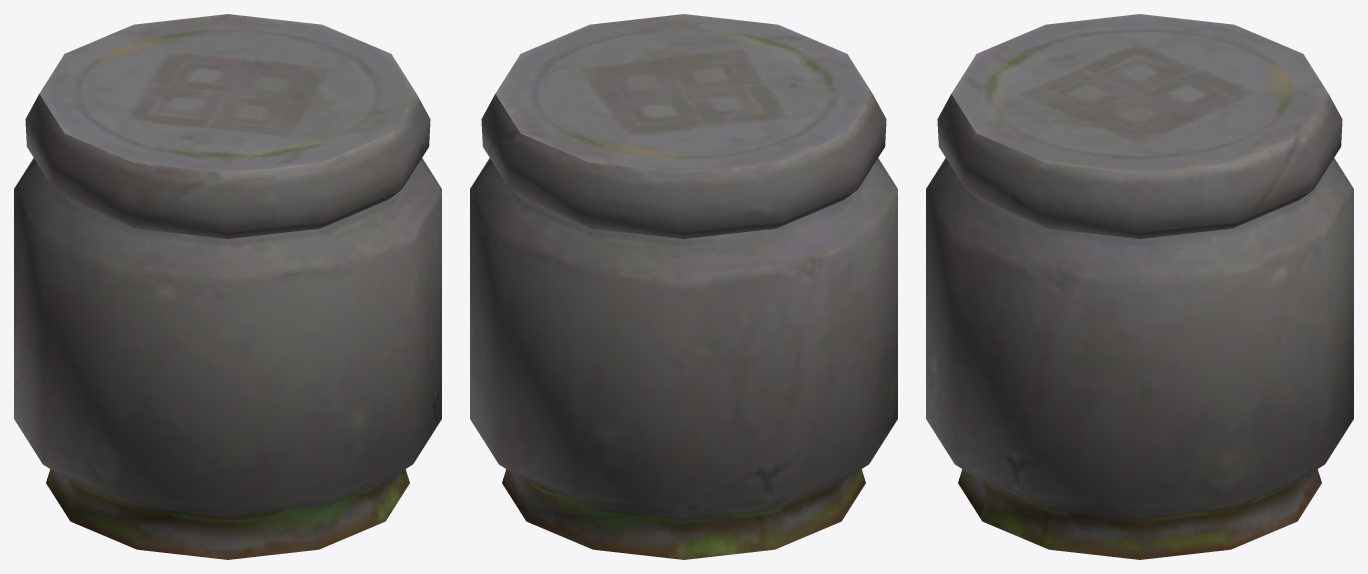
Rendered from Homeworld_Exterior_Cyg_Chair_Prop_Shizhi_01_Vo.fbx.
3 views of the same model, side by side, from view 1: azimuth 30°, elevation 25°; view 2: azimuth 150°, elevation 25°; view 3: azimuth 270°, elevation 25° (orthographic).
Visible parts, largest first — view 1: Area_Cyg_Prop_Common_Chair_01_Vo; view 2: Area_Cyg_Prop_Common_Chair_01_Vo; view 3: Area_Cyg_Prop_Common_Chair_01_Vo.
Part boxes in pixels (box(x1,y1,x2,y2)): Area_Cyg_Prop_Common_Chair_01_Vo: box(14, 14, 441, 559); Area_Cyg_Prop_Common_Chair_01_Vo: box(470, 14, 897, 559); Area_Cyg_Prop_Common_Chair_01_Vo: box(926, 14, 1353, 559).
Bounding box in the file's own units: 0.4967 × 0.4987 × 0.4967.
Materials: 1 (1 with a texture image).
